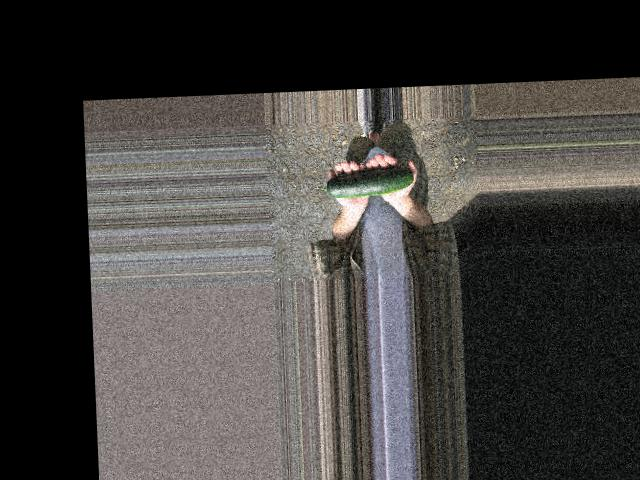cucumber: (315, 166, 413, 198)
